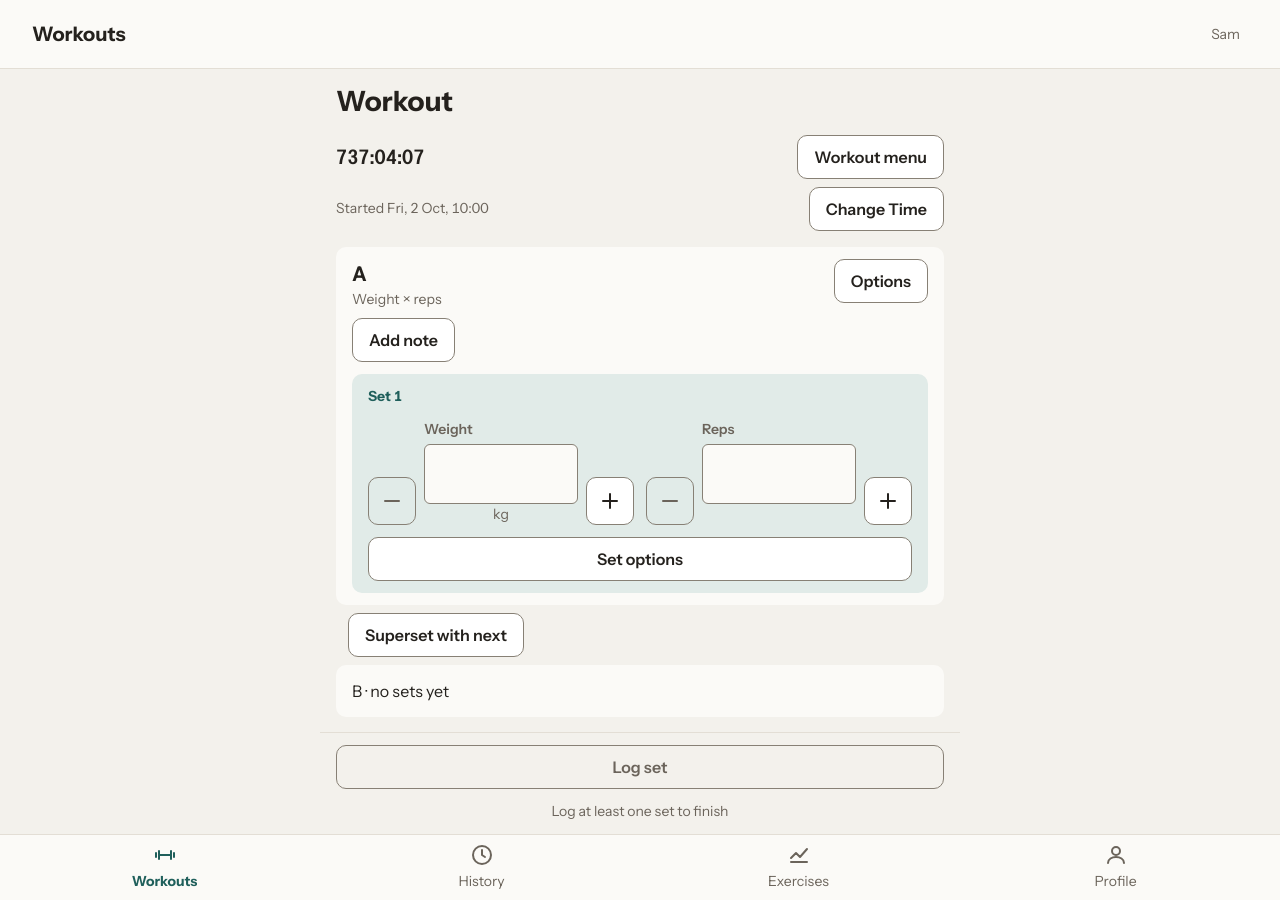
it: 17.1 AC11 — tap to make current › expands the tapped row, collapses the previous one and focuses the new heading
Check: the heading "Workout" is shown, box [336,84,453,118]
Click the button "B · no sets yet": {"x": 401, "y": 691} [352,669,928,713]
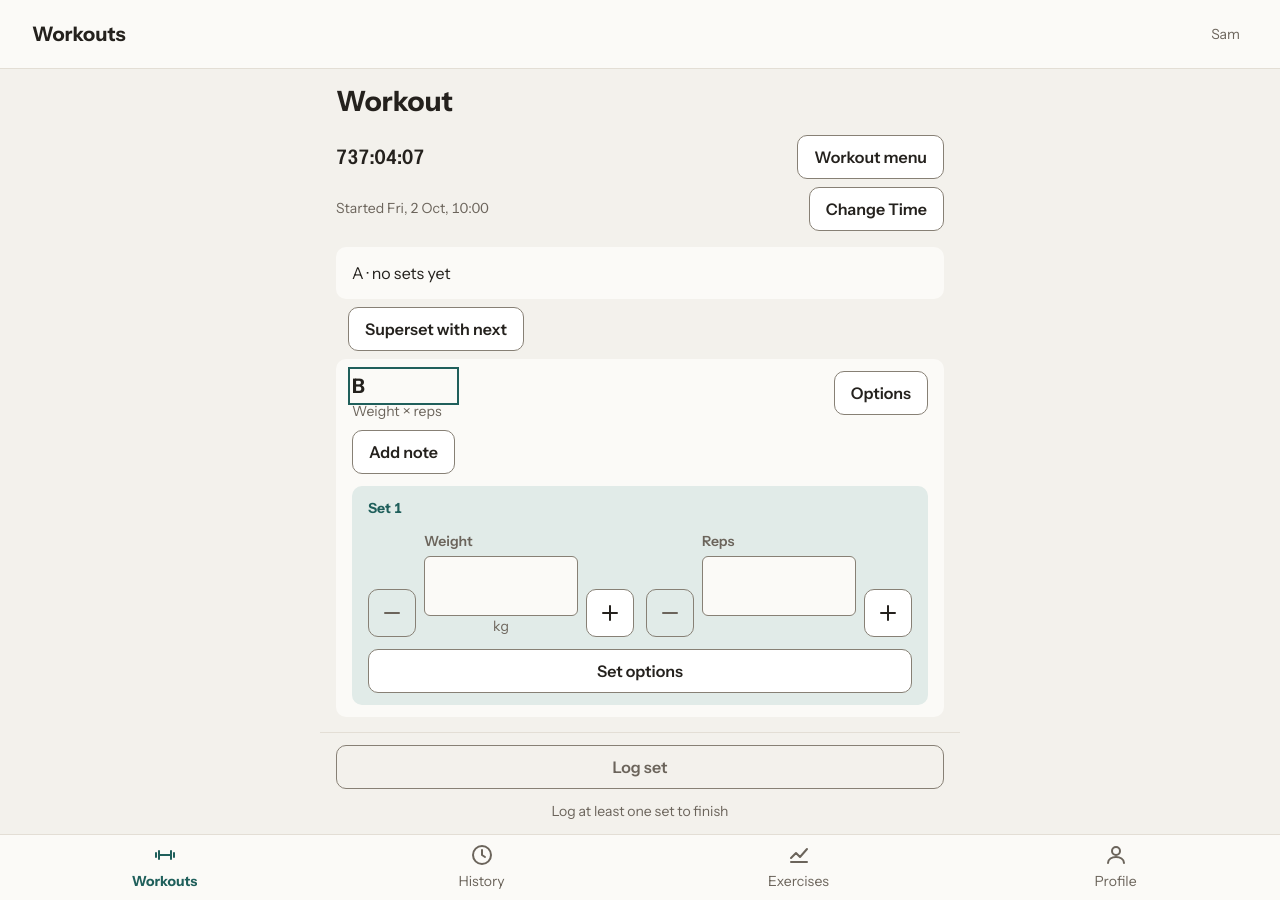
Check: the form named "Log a set of B" is shown, box [352,486,928,705]
